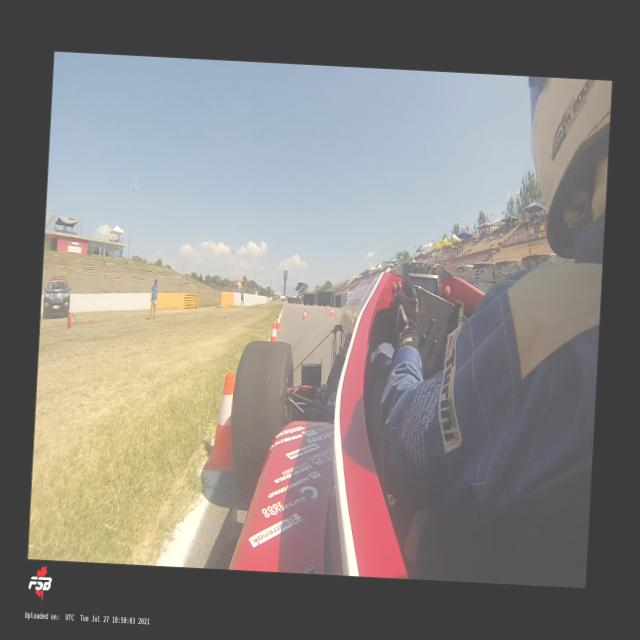orange_cone: (202, 371, 238, 473), (270, 322, 278, 342), (276, 314, 282, 331), (302, 309, 308, 321), (329, 308, 334, 316)
